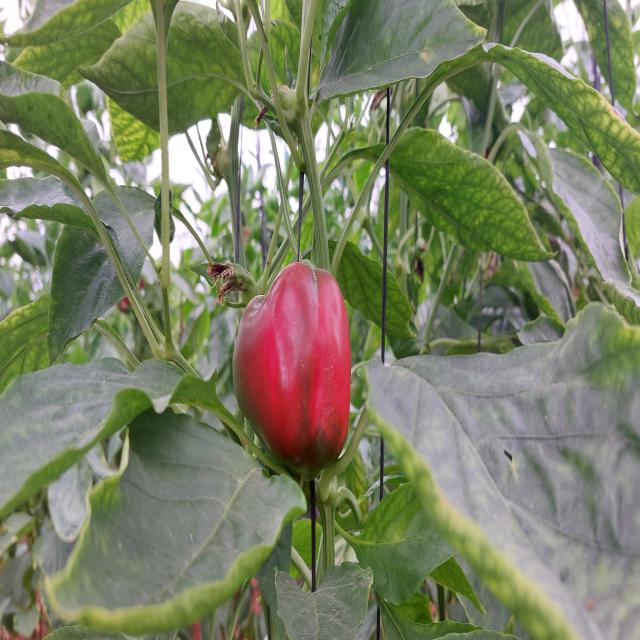Red-Ready-to-Harvest: (227, 261, 370, 489)
